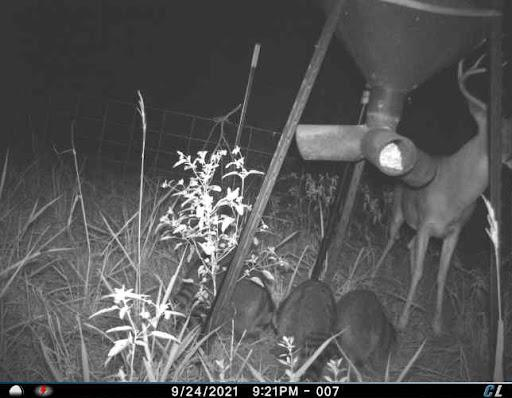Deer: (362, 52, 508, 341)
